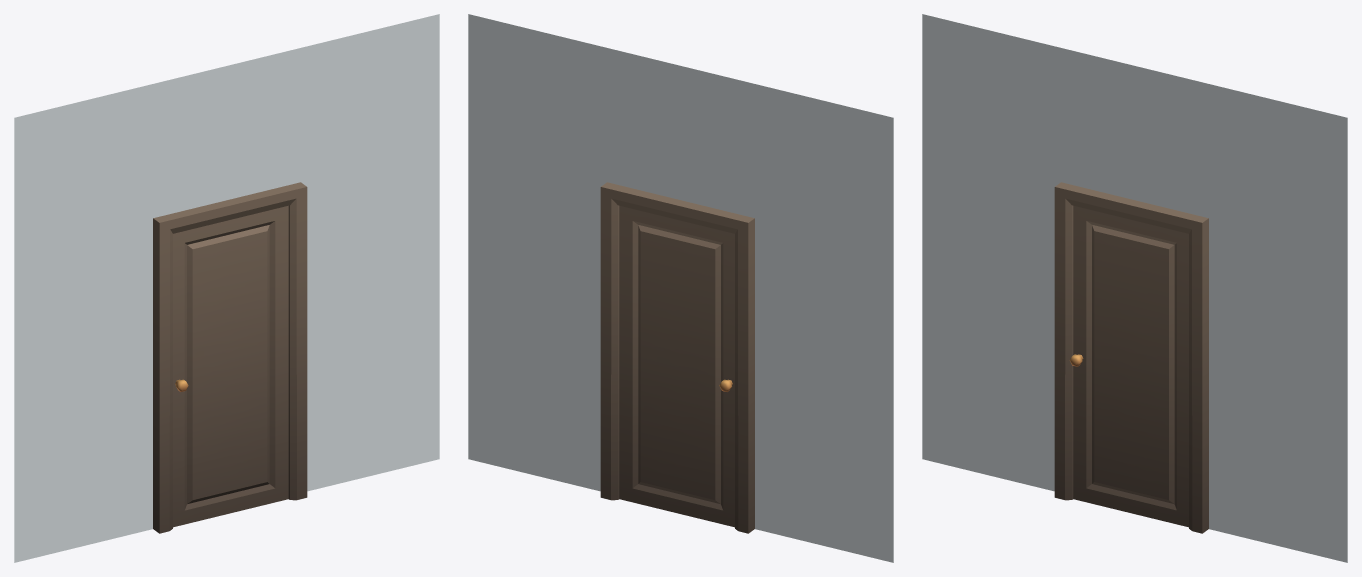
Rendered from Wall_blank_door.fbx.
3 views of the same model, side by side, from view 1: azimuth 30°, elevation 25°; view 2: azimuth 150°, elevation 25°; view 3: azimuth 330°, elevation 25° (orthographic).
Parts seen in each view (by area): view 1: Wall_blank_door, Door; view 2: Wall_blank_door, Door; view 3: Wall_blank_door, Door.
Boxes of the visible parts, left/top/right/bottom form: Wall_blank_door: left=14, top=14, right=439, bottom=562; Door: left=173, top=205, right=288, bottom=527; Wall_blank_door: left=468, top=14, right=893, bottom=562; Door: left=619, top=205, right=734, bottom=527; Wall_blank_door: left=922, top=14, right=1347, bottom=562; Door: left=1069, top=205, right=1188, bottom=527.
Size of the model in its own units: 300 by 300 by 22.2.
